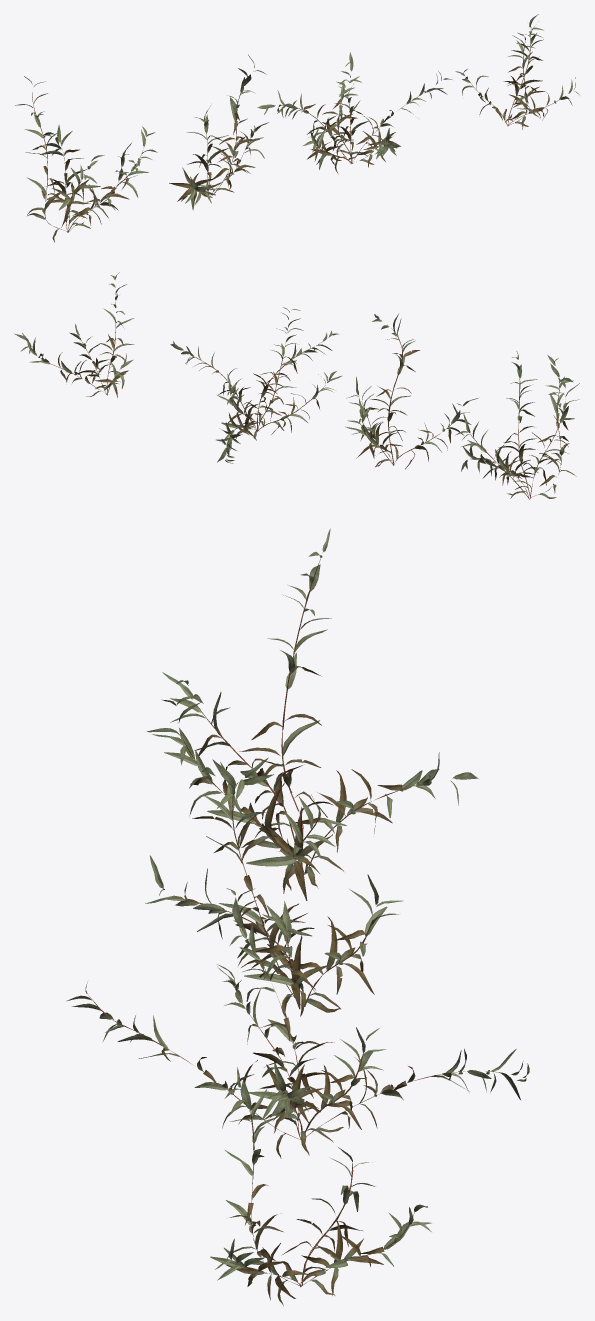
File: shrub_02.glb
3 views of the same model, one above another, from view 1: azimuth 30°, elevation 25°; view 2: azimuth 150°, elevation 25°; view 3: azimuth 270°, elevation 25° (orthographic). The views are drawn at different scales.
Parts seen in each view (by area): view 1: shrub_02_a; view 2: shrub_02_a; view 3: shrub_02_a.
Boxes of the visible parts, x1,y1,x2,y2 form: shrub_02_a: [15, 14, 579, 242]; shrub_02_a: [14, 272, 579, 499]; shrub_02_a: [66, 528, 529, 1305].
Bounding box in the file's own units: 6.05 × 1.7 × 2.28.
1 material, 1 textured.
